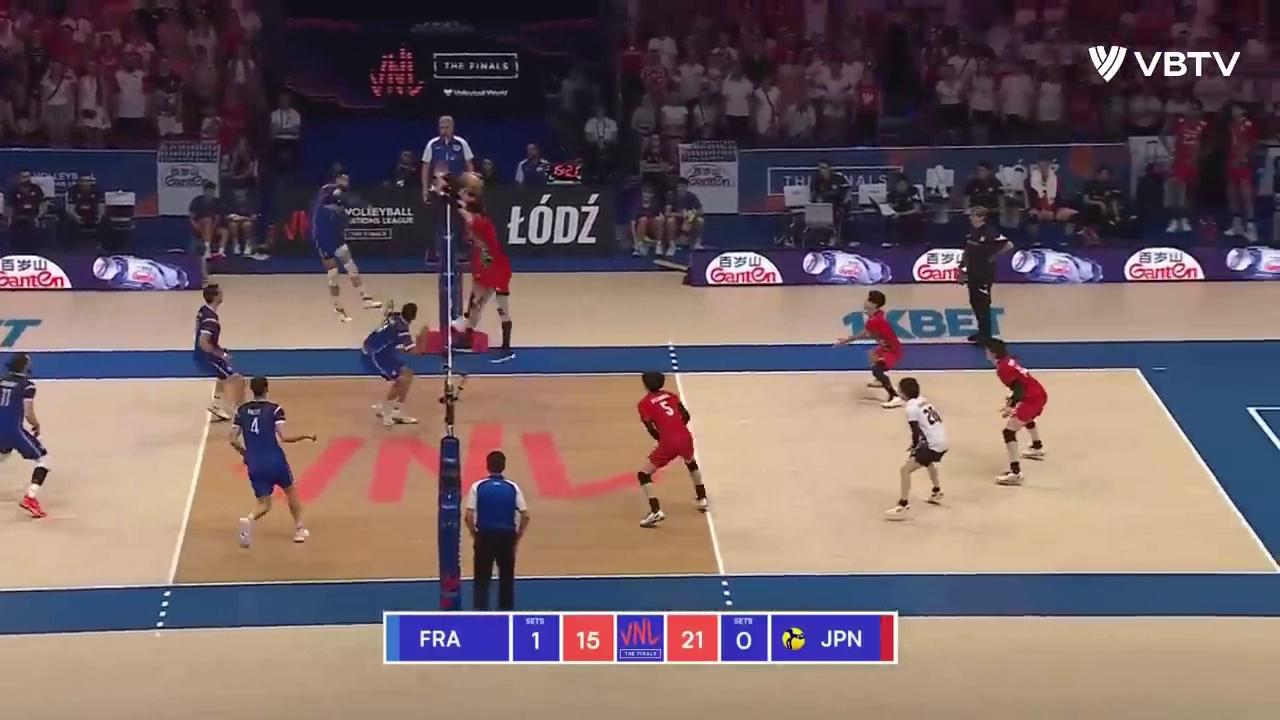ball: (461, 171, 485, 188)
